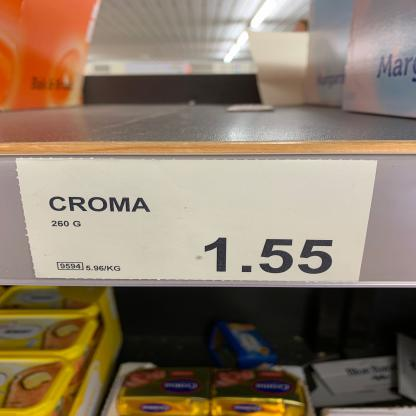prtg: (16, 160, 378, 284)
